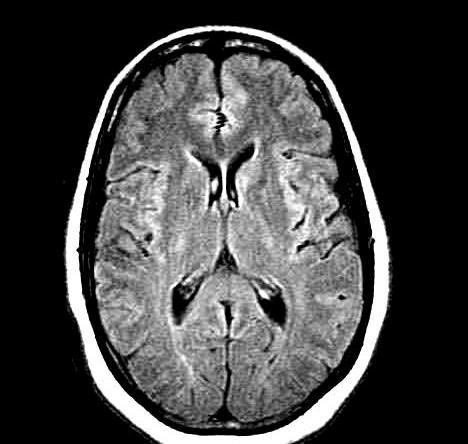Normal_Brain: (9, 1, 468, 444)
